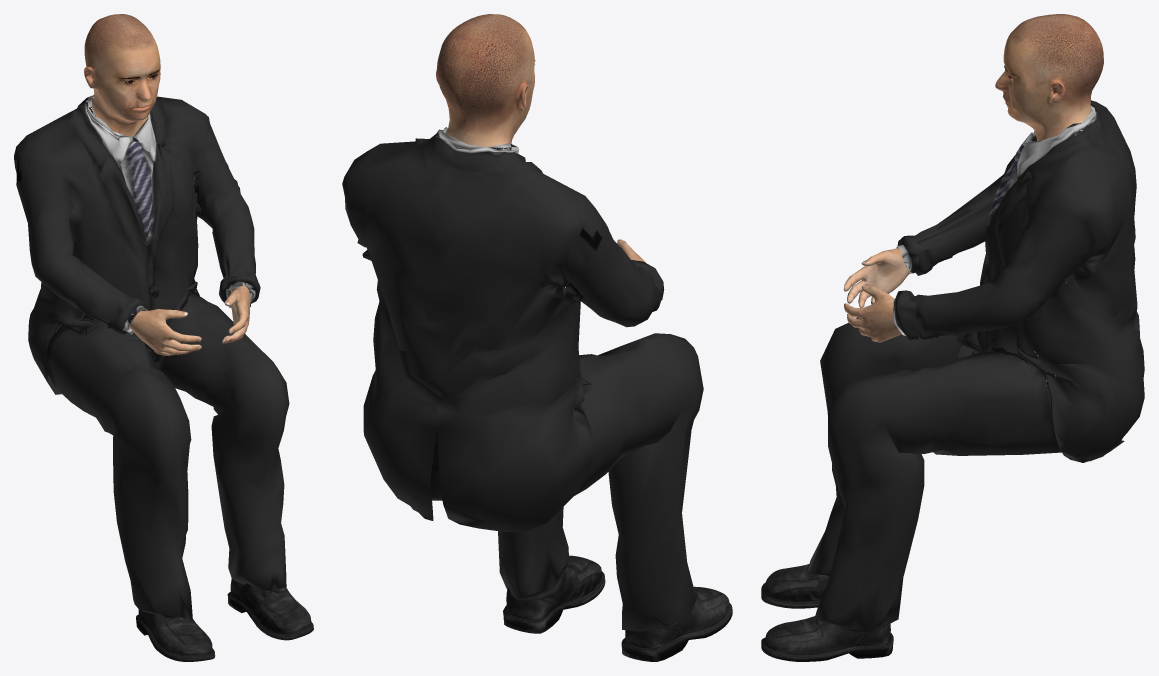
The model's file is director.glb.
The picture shows the model from 3 angles, left to right: view 1: azimuth 30°, elevation 25°; view 2: azimuth 150°, elevation 25°; view 3: azimuth 270°, elevation 25°; orthographic projection. The views are drawn at different scales.
Visible parts, largest first — view 1: male_elegantsuit01, Ellis | anatomical body, shoes04; view 2: male_elegantsuit01, Ellis | anatomical body, shoes04; view 3: male_elegantsuit01, Ellis | anatomical body, shoes04.
Part boxes in pixels (x1,y1,x2,y2): male_elegantsuit01: (14,94,289,620); Ellis | anatomical body: (84,14,250,355); shoes04: (136,579,313,661); male_elegantsuit01: (342,127,703,631); Ellis | anatomical body: (436,14,645,262); shoes04: (503,555,732,661); male_elegantsuit01: (808,100,1144,630); Ellis | anatomical body: (843,14,1103,342); shoes04: (761,564,893,661).
Bounding box in the file's own units: 0.5663 × 1.36 × 0.7788.
Materials: 6 (6 with a texture image).
